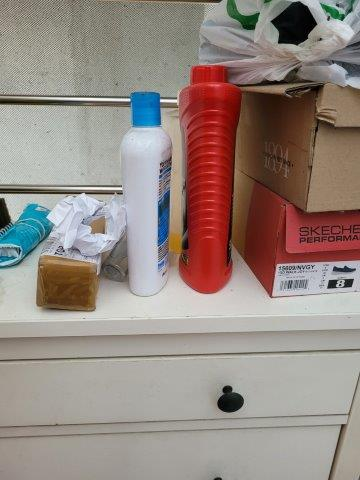kardus: (228, 82, 360, 207), (223, 178, 360, 289), (33, 246, 105, 316)
kertas: (48, 193, 128, 254)
plastik: (202, 1, 360, 80)
